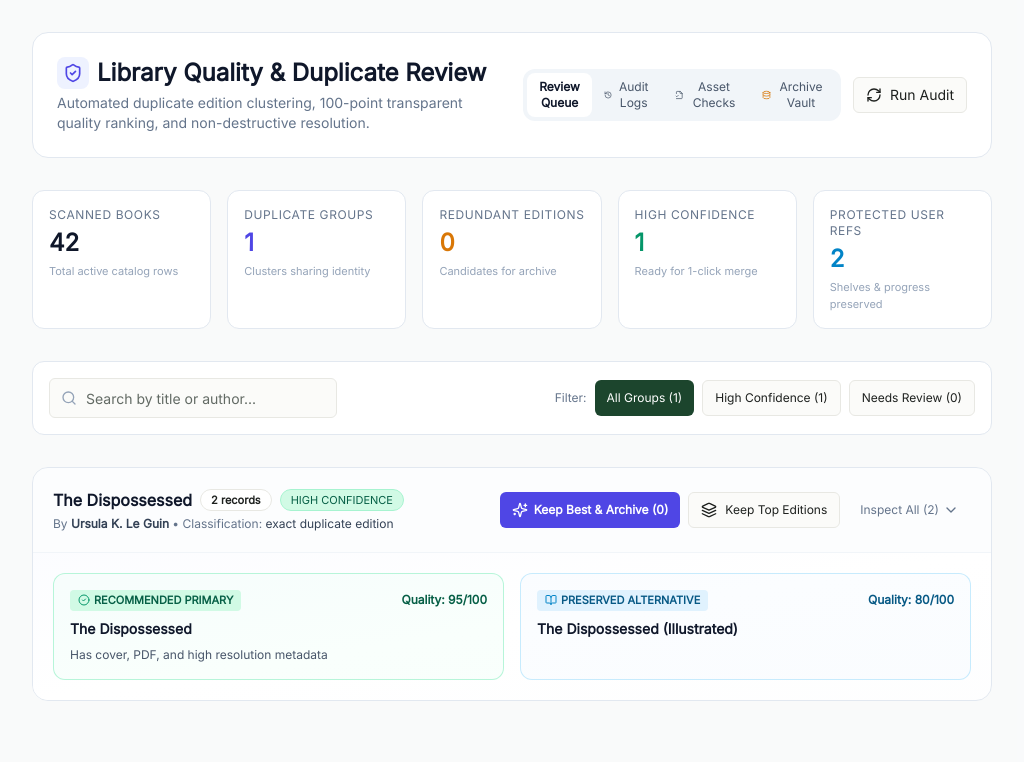
Test case: AdminLibraryQuality › expands candidate records for a duplicate group
The width and height of the screenshot is (1024, 762).
Click the button "Inspect All (2)".
click(910, 510)  # box x1=848 y1=492 x2=971 y2=528
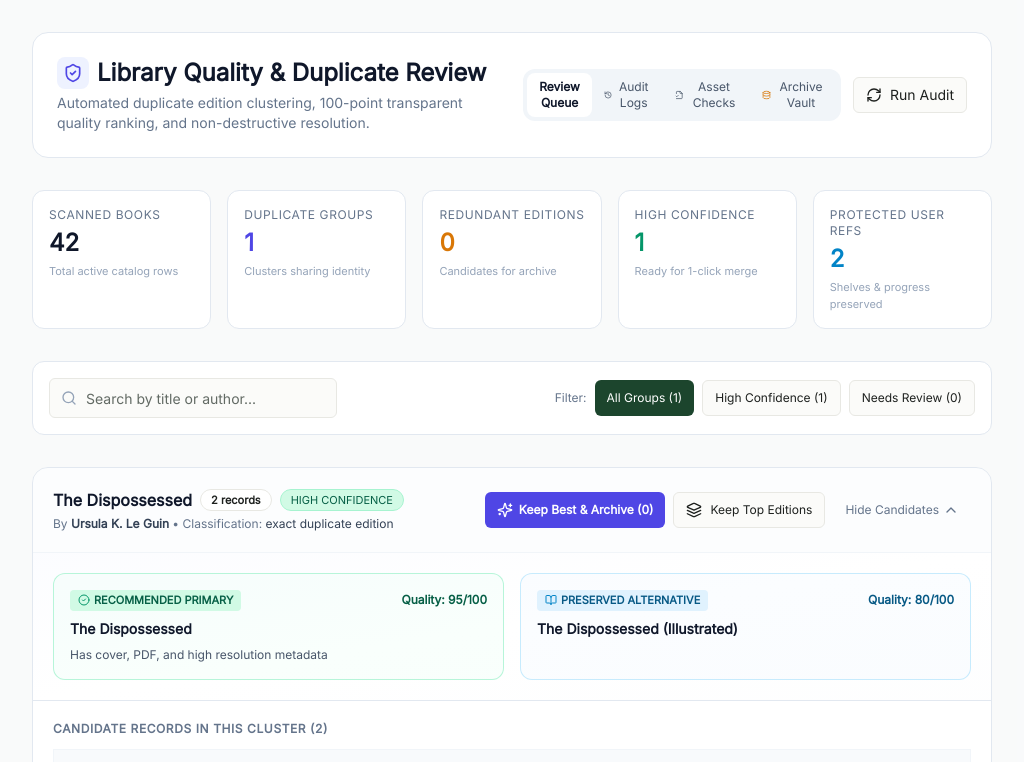
expect the heading "Candidate Records in this Cluster (2)" is shown: met, box x1=53 y1=720 x2=328 y2=736
